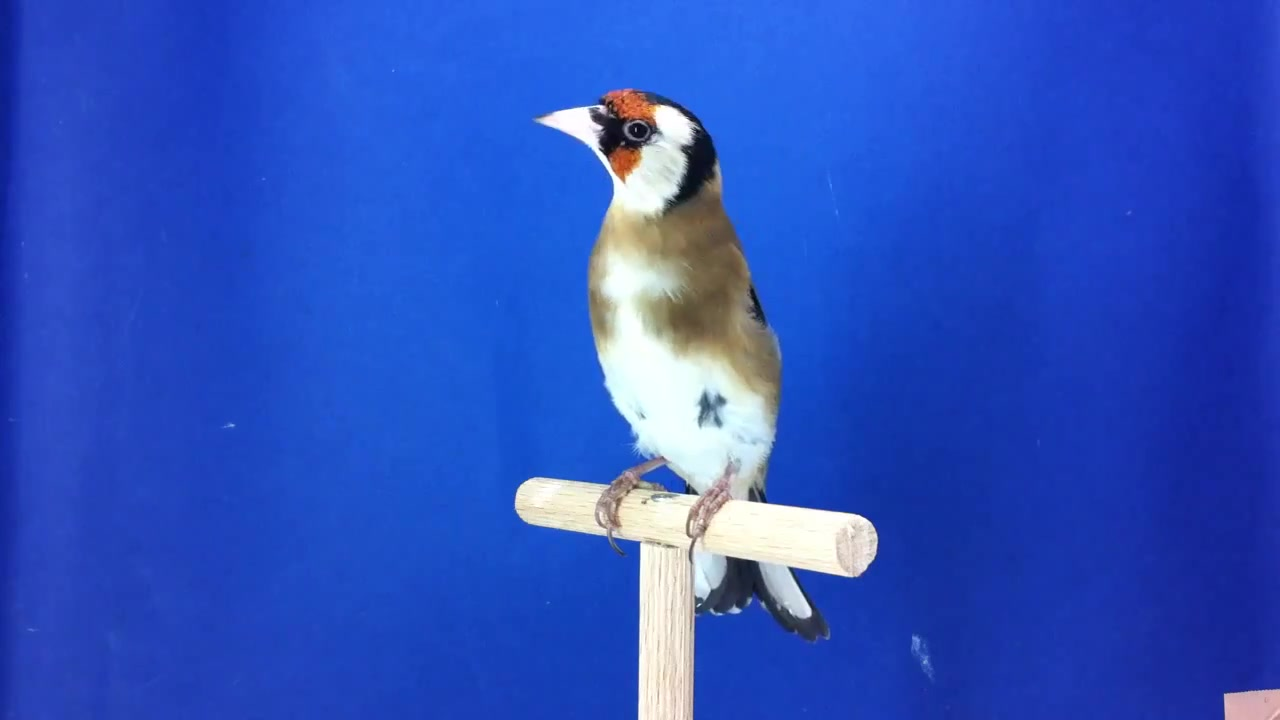bird: (533, 87, 834, 645)
